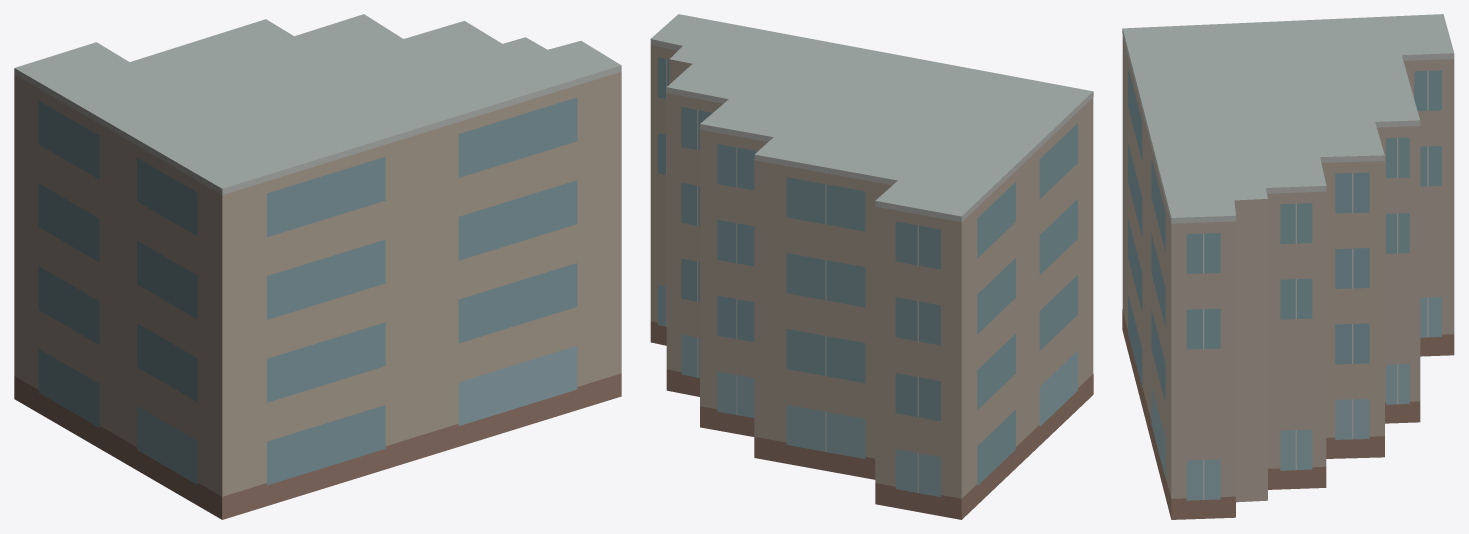
The model's file is survey-upis-32979933.glb.
3 views of the same model, side by side, from view 1: azimuth 30°, elevation 25°; view 2: azimuth 150°, elevation 25°; view 3: azimuth 270°, elevation 25° (orthographic). The views are drawn at different scales.
Visible parts, largest first — view 1: survey-upis-32979933.tmp; view 2: survey-upis-32979933.tmp; view 3: survey-upis-32979933.tmp.
Boxes of the visible parts, left/top/right/bottom form: survey-upis-32979933.tmp: left=14, top=14, right=621, bottom=519; survey-upis-32979933.tmp: left=650, top=14, right=1093, bottom=519; survey-upis-32979933.tmp: left=1122, top=14, right=1454, bottom=519.
Size of the model in its own units: 18.73 by 12.92 by 12.88.
